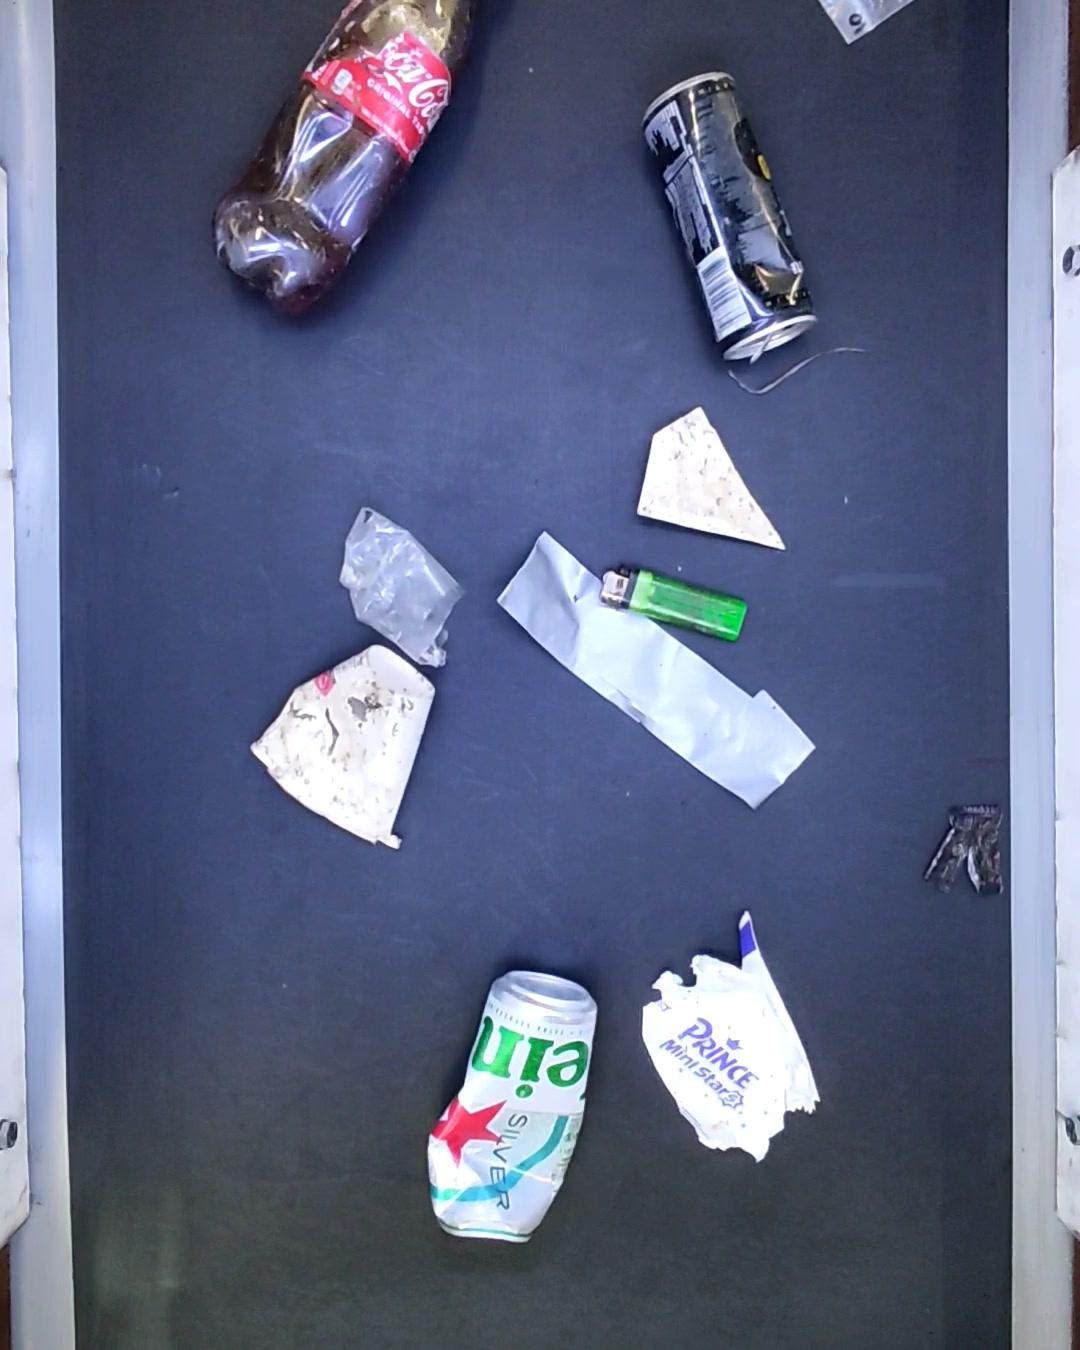Drankblikjes: (639, 72, 818, 368), (425, 971, 607, 1244)
Drankflessen - 1-2 liter: (213, 0, 477, 315)
Plastic folies of stukken daarvan 2.5- 50 cm: (342, 508, 467, 678)
Snoep snack en chips verpakkingen: (644, 918, 827, 1171), (922, 804, 1005, 897)
